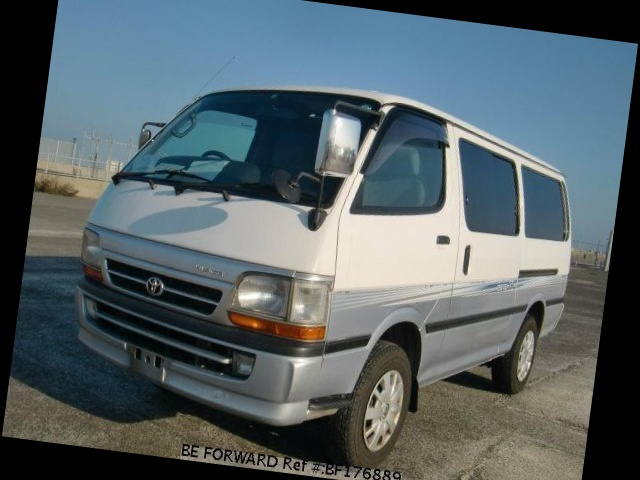van: (57, 58, 592, 480)
